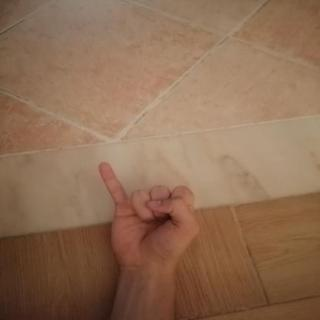MEEM: (86, 153, 215, 287)
